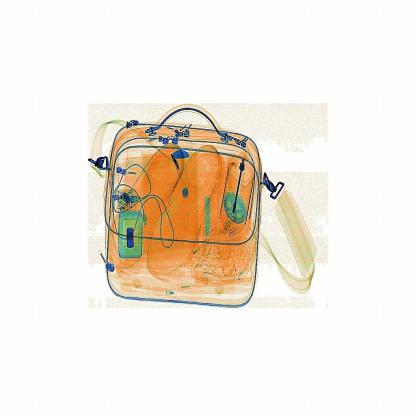pliers: (194, 185, 218, 268)
